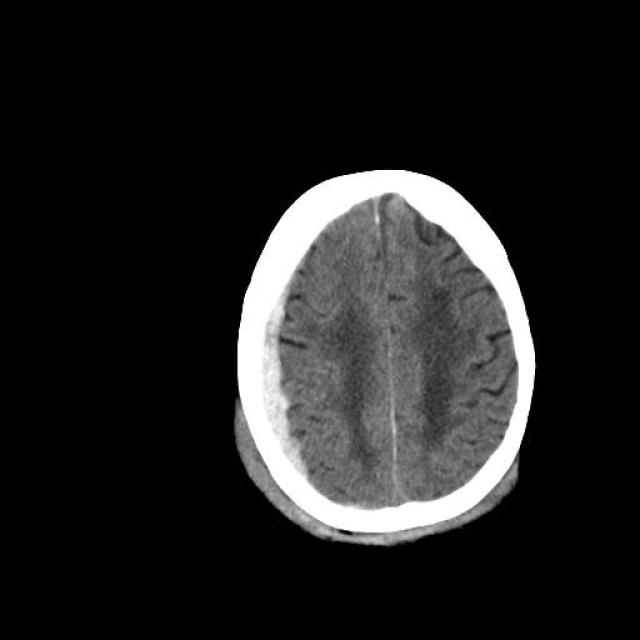Subdural: (248, 261, 314, 499)
